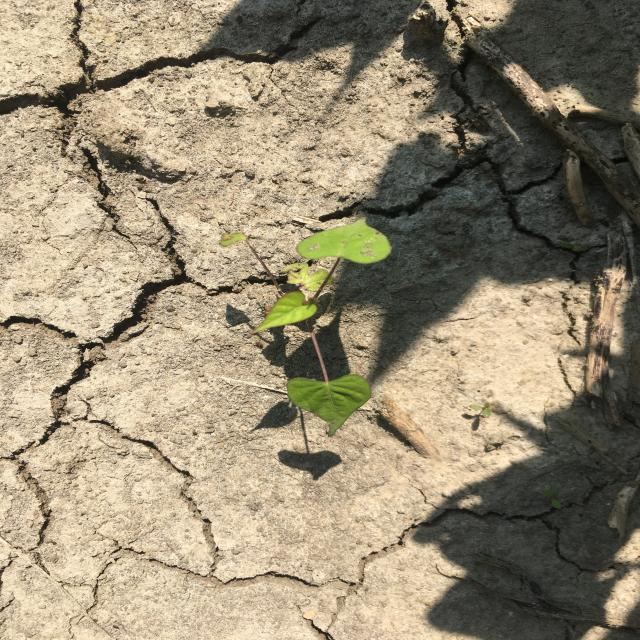MorningGlory: (218, 216, 392, 439)
